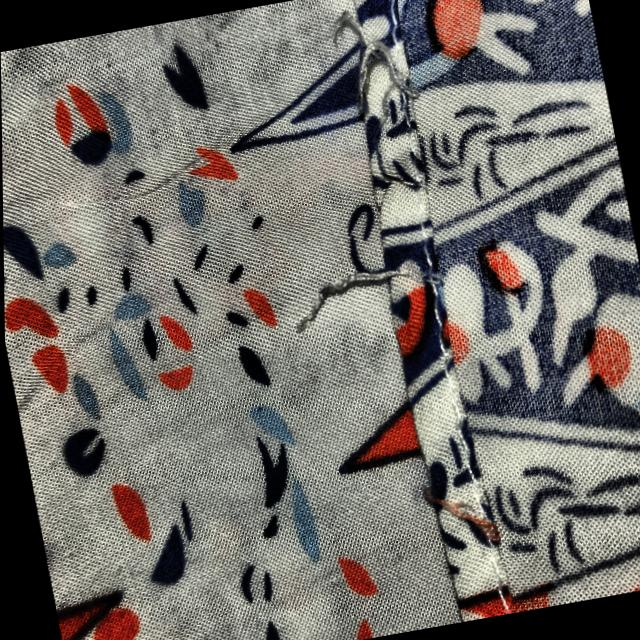Stitch: (213, 194, 500, 396), (243, 0, 463, 156), (379, 436, 562, 602)
